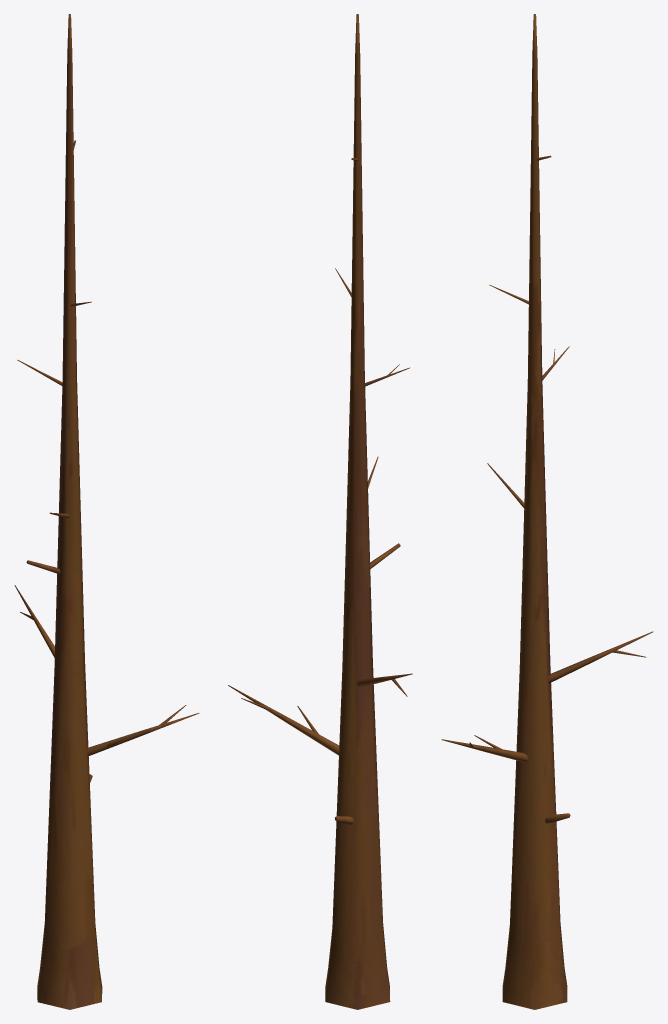
The model's file is STColumnar5.glb.
The picture shows the model from 3 angles, left to right: view 1: azimuth 30°, elevation 25°; view 2: azimuth 210°, elevation 25°; view 3: azimuth 270°, elevation 25°; orthographic projection.
Parts seen in each view (by area): view 1: STColumnar5_Trunk; view 2: STColumnar5_Trunk; view 3: STColumnar5_Trunk.
Part boxes in pixels (x1,y1,x2,y2): STColumnar5_Trunk: (14, 14, 199, 1009); STColumnar5_Trunk: (228, 14, 412, 1009); STColumnar5_Trunk: (441, 14, 653, 1009).
Size of the model in its own units: 1.68 by 12.28 by 2.41.
1 material, 1 textured.
